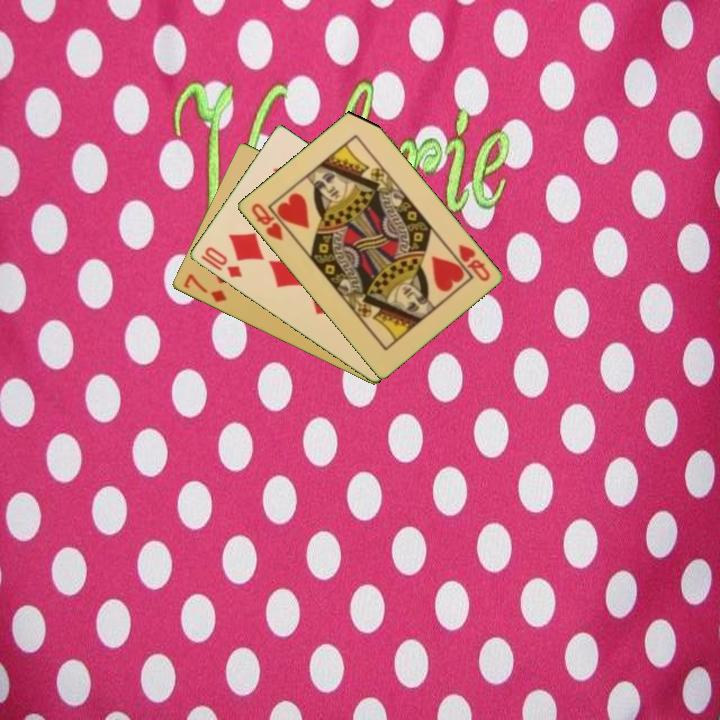10d: (197, 243, 245, 281)
7d: (180, 270, 229, 306)
Qh: (454, 241, 493, 284), (247, 199, 285, 243)
